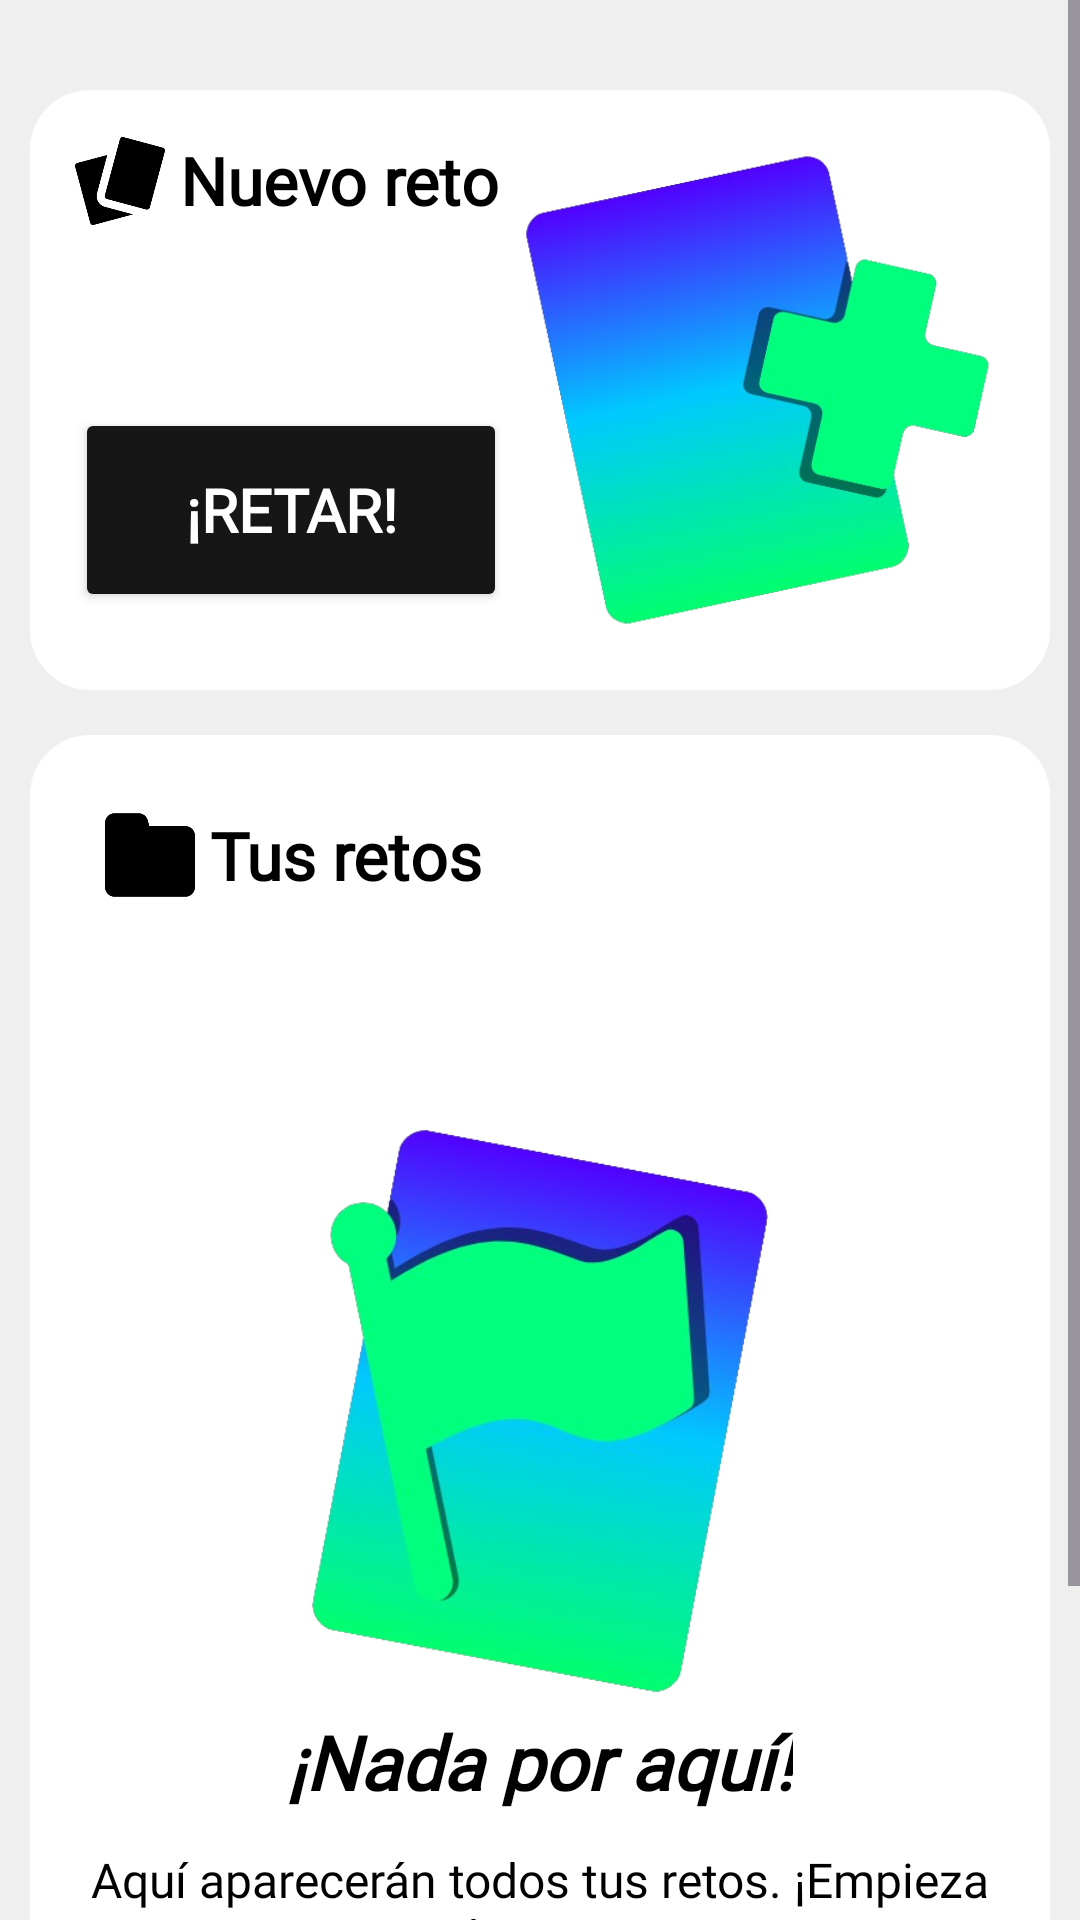

Where icons sit on this 1080w x 1920h app screen, as (x1, y1, x2, y2):
folder: (105, 813, 195, 897)
